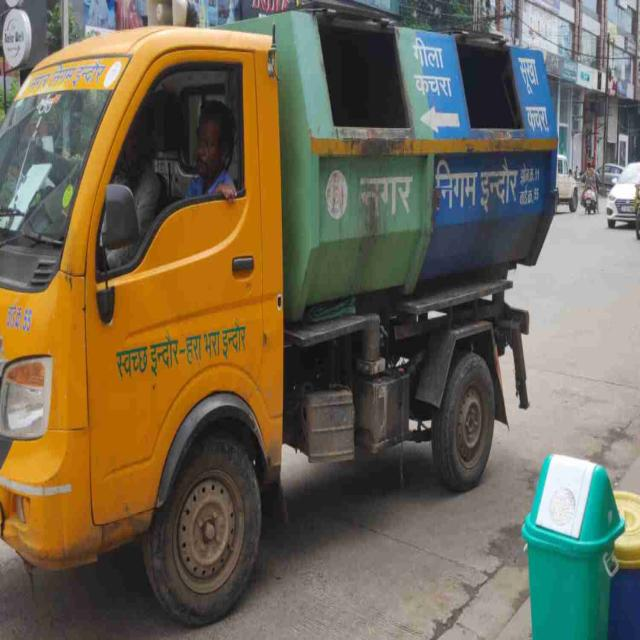car: (606, 162, 640, 227), (556, 154, 578, 211)
truck: (0, 10, 556, 622)
